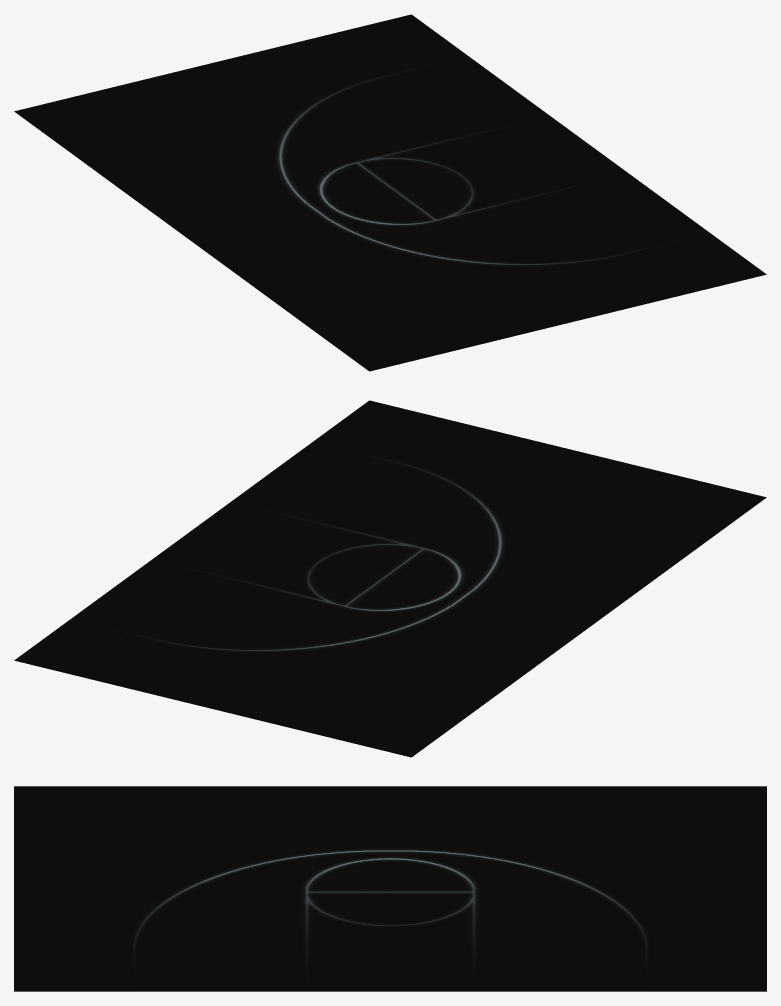
The picture shows the model from 3 angles, top to bottom: view 1: azimuth 30°, elevation 25°; view 2: azimuth 150°, elevation 25°; view 3: azimuth 270°, elevation 25°; orthographic projection. The views are drawn at different scales.
Parts seen in each view (by area): view 1: StadiumLine; view 2: StadiumLine; view 3: StadiumLine.
Boxes of the visible parts, x1,y1,x2,y2 form: StadiumLine: (14,14,766,371); StadiumLine: (14,400,766,757); StadiumLine: (14,786,766,991).
Bounding box in the file's own units: 1282 × 1985 × 0.
